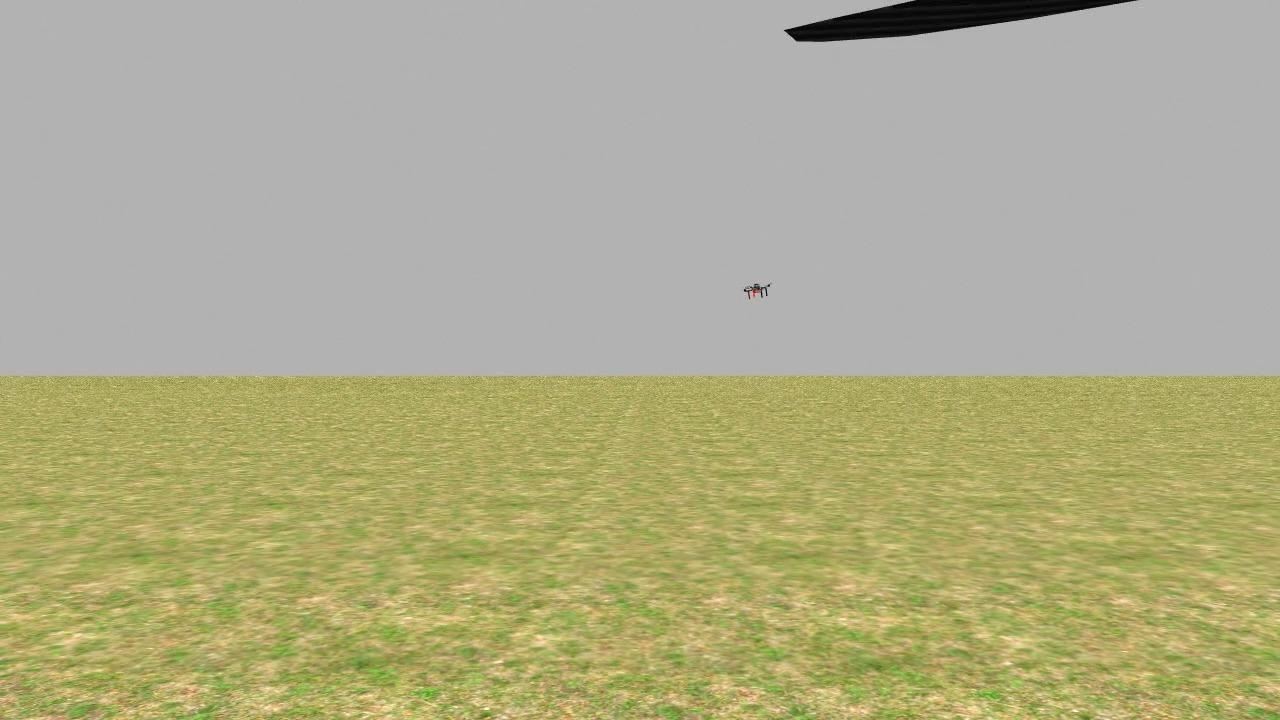UAV: (735, 273, 779, 311)
